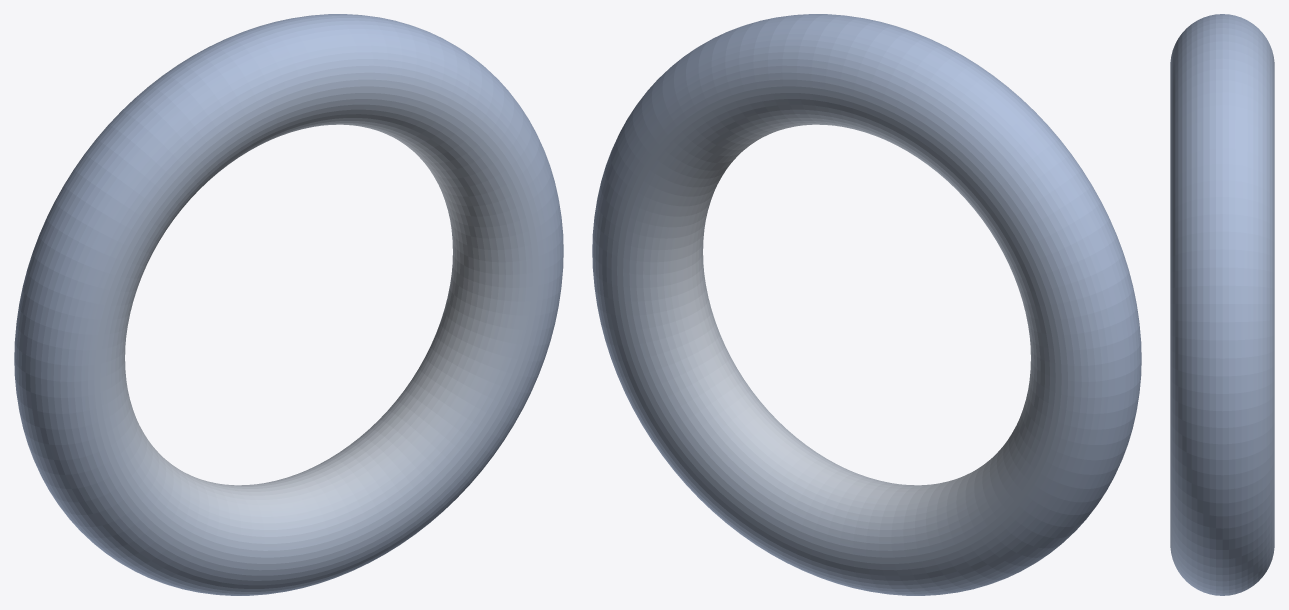
3 renders of one model, left to right at view 1: azimuth 30°, elevation 25°; view 2: azimuth 150°, elevation 25°; view 3: azimuth 270°, elevation 25°, orthographic. The views are drawn at different scales.
Visible parts, largest first — view 1: world; view 2: world; view 3: world.
Boxes of the visible parts, x1=… form: world: x1=14, y1=14, x2=563, y2=595; world: x1=592, y1=14, x2=1141, y2=595; world: x1=1170, y1=14, x2=1274, y2=595.
Bounding box in the file's own units: 26 × 26 × 4.66.
